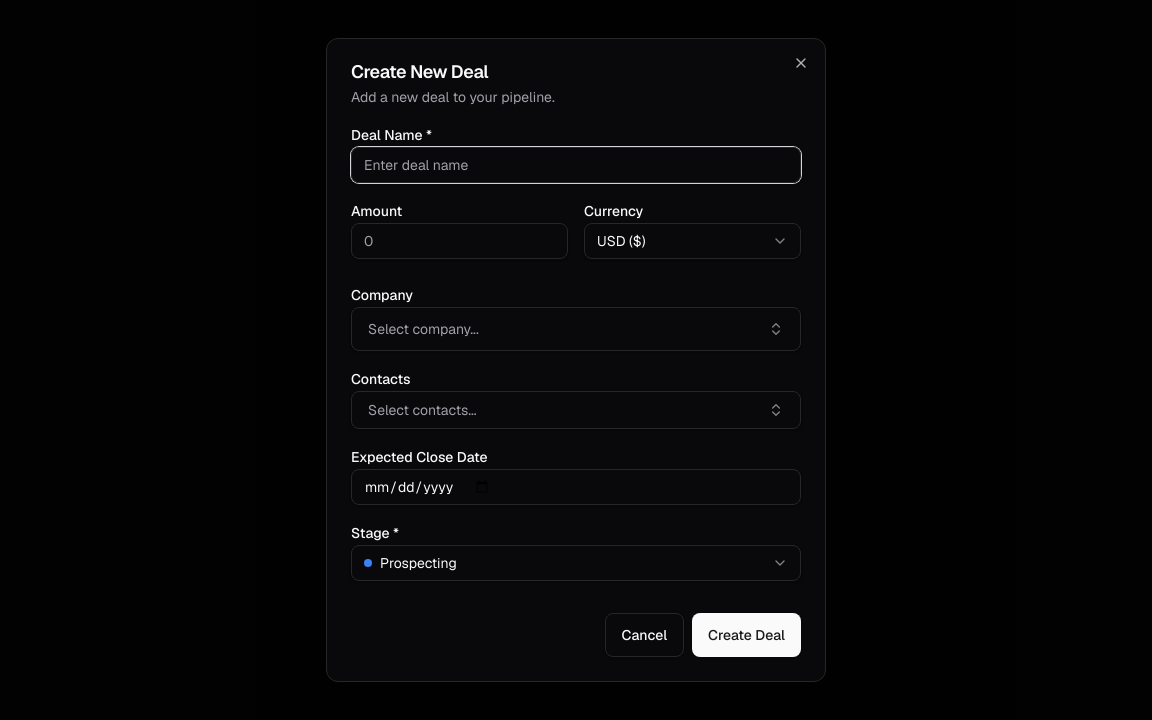
Test: DealForm › Accessibility › shows validation errors with proper ARIA
Click the button "Create Deal" at (747, 635), box top-left (692, 613), bottom-right (801, 657)
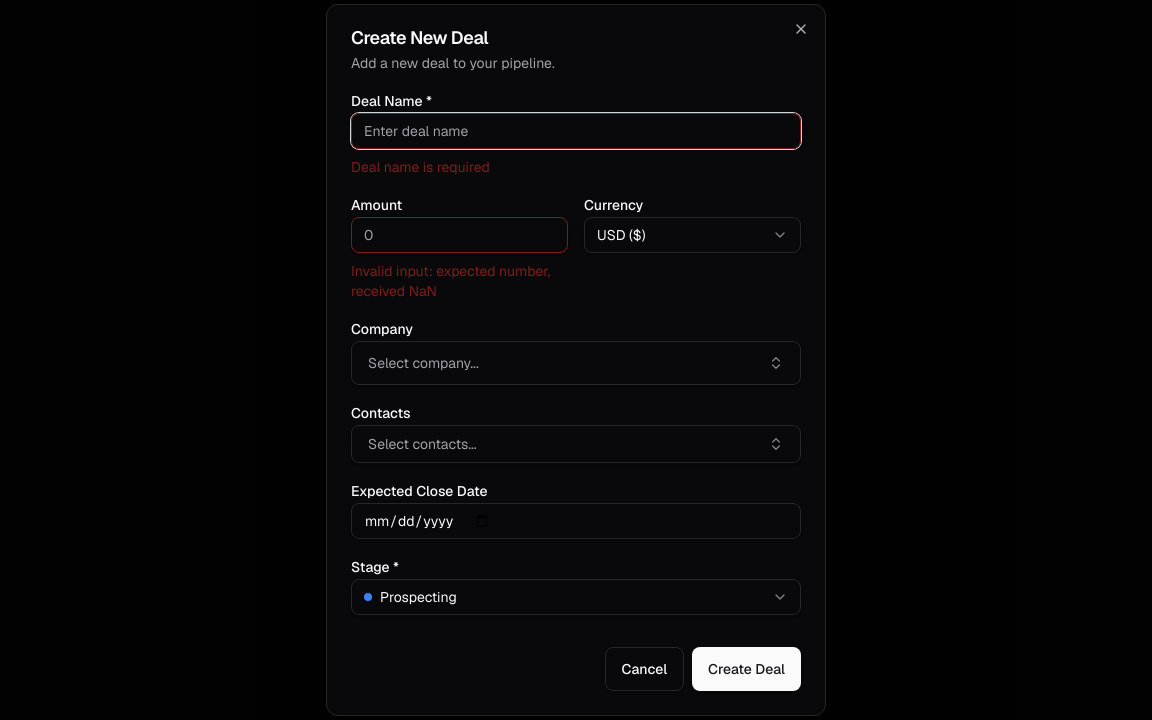
Expected: the text "Deal name is required" is shown, top-left (351, 158), bottom-right (490, 176)
